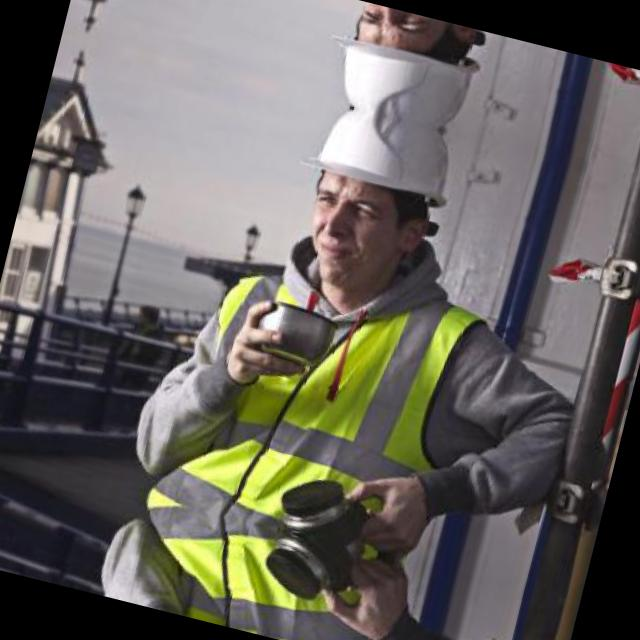helmet: (268, 97, 479, 318), (311, 0, 505, 141)
